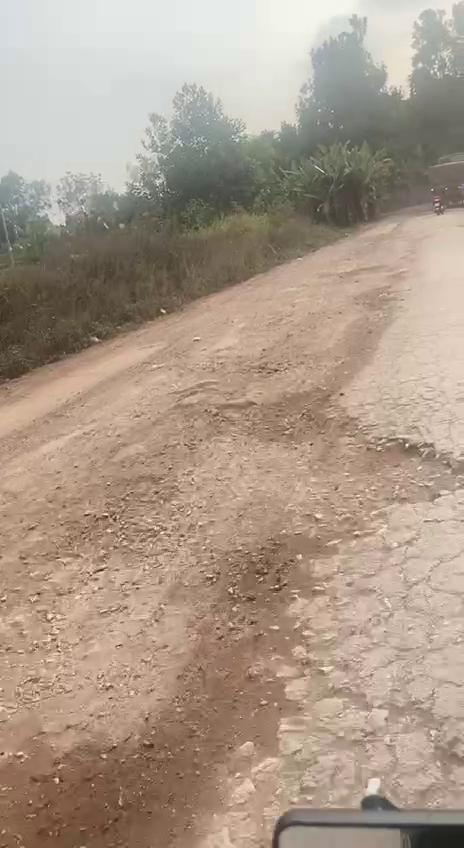pothole: (217, 675, 464, 848), (256, 394, 464, 522)
